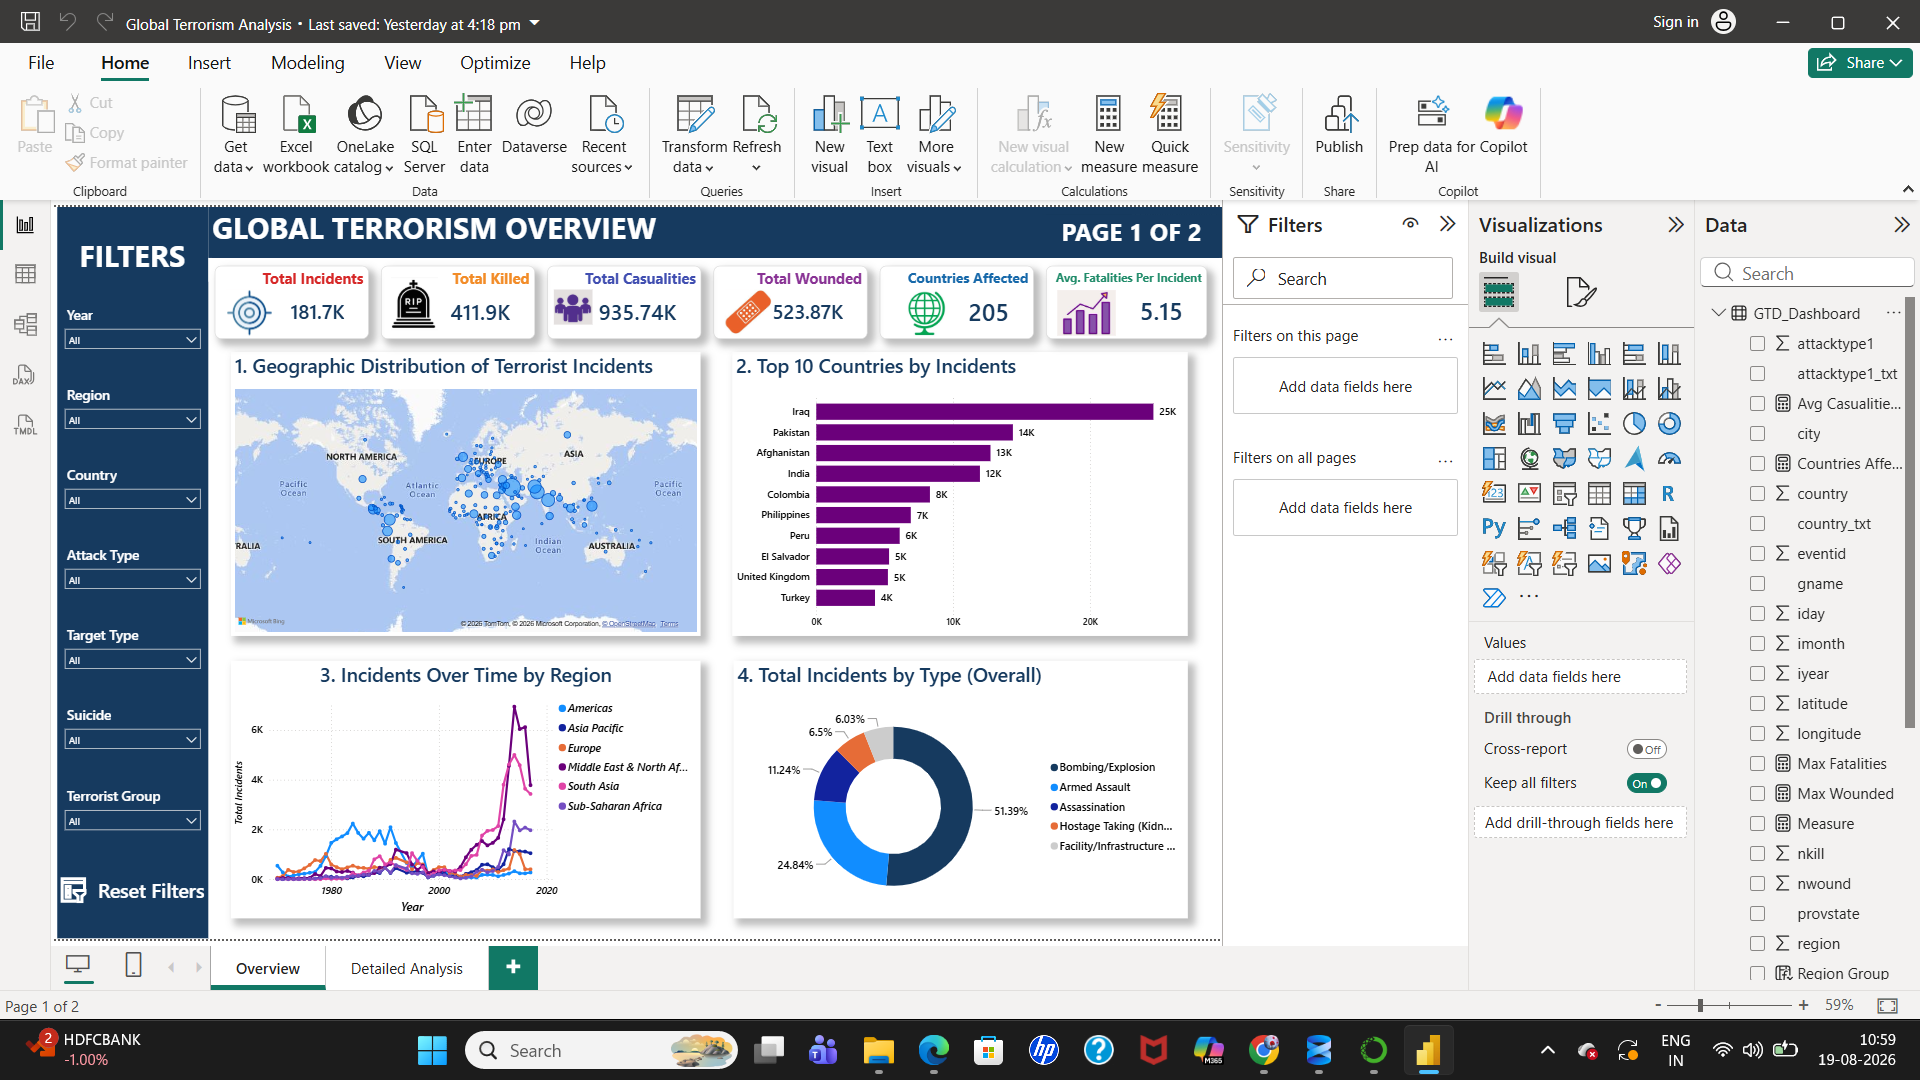

This screenshot's page, from the dashboard's own definition file:
{"tool":"powerbi","page":{"name":"Overview","canvas":[1600,1000],"ordinal":0},"visuals":[{"type":"shape","box":[8.9,0,206.7,999.6],"z":0},{"type":"textbox","title":"GLOBAL TERRORISM OVERVIEW","box":[215.8,0,1384.2,68.6],"z":1000,"group":"g8"},{"type":"slicer","fields":{"Values":["GTD_Dashboard.iyear"]},"box":[8,130,205.8,72.7],"z":1000},{"type":"slicer","fields":{"Values":["GTD_Dashboard.region_txt"]},"box":[8,239.4,205.8,72.7],"z":2000},{"type":"slicer","fields":{"Values":["GTD_Dashboard.country_txt"]},"box":[8,348.9,205.8,72.7],"z":3000},{"type":"slicer","fields":{"Values":["GTD_Dashboard.attacktype1_txt"]},"box":[8,458.3,205.8,72.7],"z":4000},{"type":"slicer","fields":{"Values":["GTD_Dashboard.targtype1_txt"]},"box":[8,567.7,205.8,72.7],"z":5000},{"type":"slicer","fields":{"Values":["GTD_Dashboard.Suicide Status"]},"box":[8,677.1,205.8,72.7],"z":6000},{"type":"textbox","title":"FILTERS","box":[16,40,192,64],"z":7000},{"type":"textbox","title":"GLOBAL TERRORISM OVERVIEW (1970-2017)","box":[214.4,0,1385.9,101.2],"z":8000},{"type":"cardVisual","title":"Total Incidents","fields":{"Data":["GTD_Dashboard.Total Incidents"]},"box":[224,80,210,100],"z":9000,"group":"g6"},{"type":"cardVisual","title":"Total Killed","fields":{"Data":["GTD_Dashboard.Total Fatalities"]},"box":[451.2,80,210,100],"z":10000,"group":"g5"},{"type":"cardVisual","title":"Countries Affected","fields":{"Data":["GTD_Dashboard.Countries Affected"]},"box":[1132.8,80,210,100],"z":11000,"group":"g2"},{"type":"cardVisual","title":"Avg. Fatalities Per Incident","fields":{"Data":["GTD_Dashboard.Avg Fatalities Per Incident"]},"box":[1360,80,220,100],"z":12000,"group":"g1"},{"type":"lineChart","title":"3. Incidents Over Time by Region","fields":{"Category":["GTD_Dashboard.iyear"],"Y":["GTD_Dashboard.Total Incidents"],"Series":["GTD_Dashboard.Region Group"]},"box":[245.3,619.2,641.5,351.6],"z":13000},{"type":"map","title":"1. Geographic Distribution of Terrorist Incidents","fields":{"Size":["GTD_Dashboard.Total Incidents"],"Category":["GTD_Dashboard.country_txt"]},"box":[245.3,199,641.5,387.7],"z":14000},{"type":"donutChart","title":"4. Total Incidents by Type (Overall)","fields":{"Category":["GTD_Dashboard.attacktype1_txt"],"Y":["GTD_Dashboard.Total Incidents"]},"box":[933.1,619.2,620.9,351.6],"z":15000},{"type":"textbox","title":"PAGE 1 OF 2","box":[1355.6,10.7,244.1,58.8],"z":15002,"group":"g8"},{"type":"cardVisual","title":"Total Wounded","fields":{"Data":["GTD_Dashboard.Total Wounded"]},"box":[905.6,80,210,100],"z":16000,"group":"g3"},{"type":"clusteredBarChart","title":"2. Top 10 Countries by Incidents","fields":{"Category":["GTD_Dashboard.country_txt"],"Y":["GTD_Dashboard.Total Incidents"]},"box":[931.4,199,622.6,387.7],"z":17000},{"type":"actionButton","box":[8,896,205,72],"z":18000},{"type":"cardVisual","title":"Total Casualities","fields":{"Data":["GTD_Dashboard.Total Casualities"]},"box":[678.4,80,210,100],"z":19000,"group":"g4"},{"type":"image","box":[1376,112,80,64],"z":20000,"group":"g1"},{"type":"image","box":[1164.8,112,64,64],"z":21000,"group":"g2"},{"type":"image","box":[921.6,112,64,64],"z":22000,"group":"g3"},{"type":"image","box":[682.4,112,64,48],"z":23000,"group":"g4"},{"type":"image","box":[464.1,92,64,80],"z":24000,"group":"g5"},{"type":"image","box":[240,112,64,64],"z":25000,"group":"g6"},{"type":"group","id":"g1","title":"Group 1","box":[1360,80,220,100],"z":25001},{"type":"group","id":"g2","title":"Group 2","box":[1132.8,80,210,100],"z":25002},{"type":"group","id":"g3","title":"Group 3","box":[905.6,80,210,100],"z":25003},{"type":"group","id":"g4","title":"Group 4","box":[678.4,80,210,100],"z":25004},{"type":"group","id":"g5","title":"Group 5","box":[451.2,80,210,100],"z":25005},{"type":"group","id":"g6","title":"Group 6","box":[224,80,210,100],"z":25006},{"type":"group","id":"g7","title":"Group 2","box":[215.8,0,1384.2,69.5],"z":25007},{"type":"group","id":"g8","title":"Group 7","box":[215.8,0,1384.2,69.5],"z":25008,"group":"g7"},{"type":"slicer","fields":{"Values":["GTD_Dashboard.gname"]},"box":[8,786.6,205.8,72.7],"z":25008}]}

Visuals, with their boxes on the page's 1600x1000 design canvas (x1, y1, x2, y2). These are canvas units, not pixel positions in the 1920x1080 screenshot, which may show the page scaled, cropped or inside an application window:
shape: 9:0:216:1000
"GLOBAL TERRORISM OVERVIEW" textbox: 216:0:1600:69
slicer - GTD_Dashboard.iyear: 8:130:214:203
slicer - GTD_Dashboard.region_txt: 8:239:214:312
slicer - GTD_Dashboard.country_txt: 8:349:214:422
slicer - GTD_Dashboard.attacktype1_txt: 8:458:214:531
slicer - GTD_Dashboard.targtype1_txt: 8:568:214:640
slicer - GTD_Dashboard.Suicide Status: 8:677:214:750
"FILTERS" textbox: 16:40:208:104
"GLOBAL TERRORISM OVERVIEW (1970-2017)" textbox: 214:0:1600:101
"Total Incidents" cardVisual: 224:80:434:180
"Total Killed" cardVisual: 451:80:661:180
"Countries Affected" cardVisual: 1133:80:1343:180
"Avg. Fatalities Per Incident" cardVisual: 1360:80:1580:180
"3. Incidents Over Time by Region" lineChart: 245:619:887:971
"1. Geographic Distribution of Terrorist Incidents" map: 245:199:887:587
"4. Total Incidents by Type (Overall)" donutChart: 933:619:1554:971
"PAGE 1 OF 2" textbox: 1356:11:1600:70
"Total Wounded" cardVisual: 906:80:1116:180
"2. Top 10 Countries by Incidents" clusteredBarChart: 931:199:1554:587
actionButton: 8:896:213:968
"Total Casualities" cardVisual: 678:80:888:180
image: 1376:112:1456:176
image: 1165:112:1229:176
image: 922:112:986:176
image: 682:112:746:160
image: 464:92:528:172
image: 240:112:304:176
"Group 1" group: 1360:80:1580:180
"Group 2" group: 1133:80:1343:180
"Group 3" group: 906:80:1116:180
"Group 4" group: 678:80:888:180
"Group 5" group: 451:80:661:180
"Group 6" group: 224:80:434:180
"Group 2" group: 216:0:1600:70
"Group 7" group: 216:0:1600:70
slicer - GTD_Dashboard.gname: 8:787:214:859
